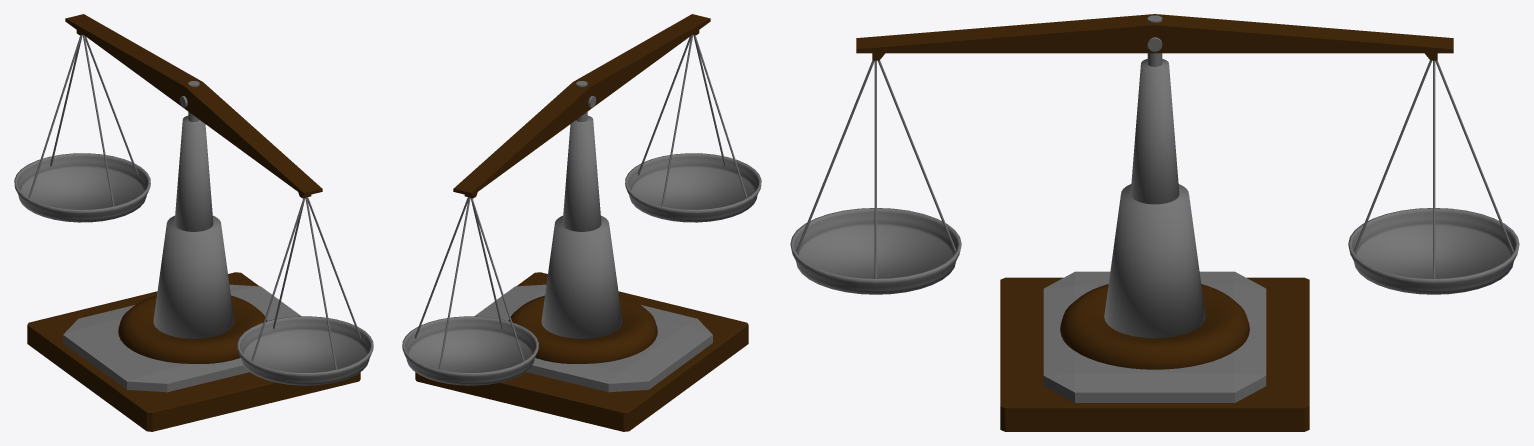
The model's file is bilancia.fbx.
The picture shows the model from 3 angles, left to right: view 1: azimuth 30°, elevation 25°; view 2: azimuth 150°, elevation 25°; view 3: azimuth 270°, elevation 25°; orthographic projection. The views are drawn at different scales.
Visible parts, largest first — view 1: Cube.003; view 2: Cube.003; view 3: Cube.003.
Part boxes in pixels (bbox=[...]): Cube.003: bbox=[14, 14, 373, 431]; Cube.003: bbox=[402, 14, 761, 431]; Cube.003: bbox=[790, 14, 1519, 431].
Size of the model in its own units: 29.91 by 37.18 by 70.5.
